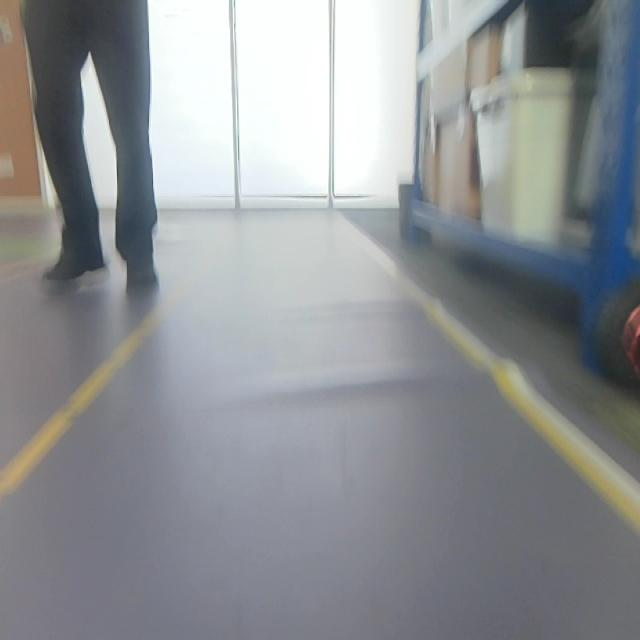left_lane: (348, 223, 640, 535), (0, 258, 213, 499)
